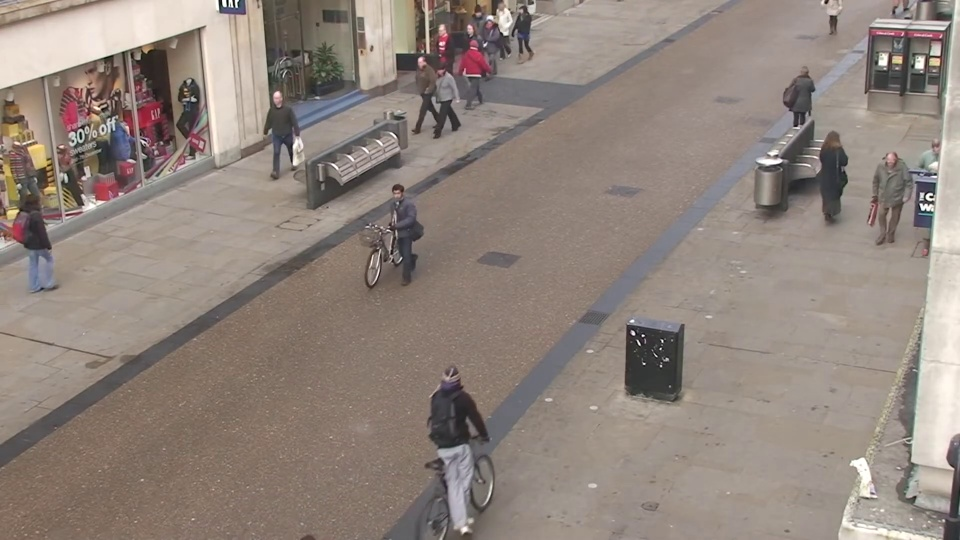pedestrian: (445, 344, 497, 498), (22, 186, 77, 298), (906, 136, 955, 241), (860, 151, 906, 258), (375, 181, 415, 294), (813, 125, 852, 225), (258, 91, 291, 178), (786, 62, 819, 144), (422, 61, 451, 141), (403, 55, 431, 134), (464, 35, 490, 107), (424, 26, 450, 97), (453, 24, 478, 94), (478, 14, 502, 81), (466, 7, 489, 72), (488, 0, 511, 64), (512, 2, 534, 66)
